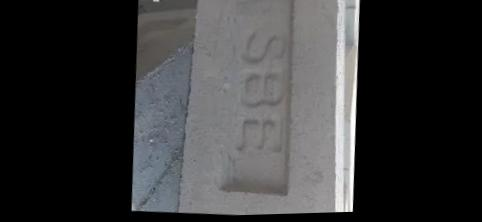brick: (169, 0, 351, 217)
